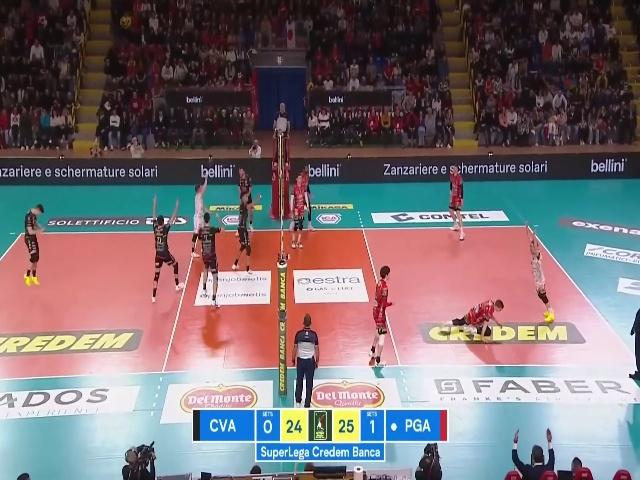volleyball court: (0, 224, 637, 377)
